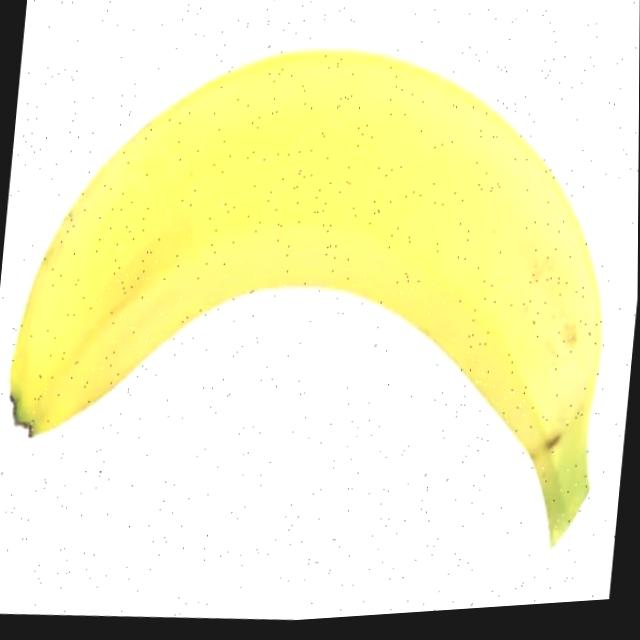Banana: (0, 13, 631, 591)
